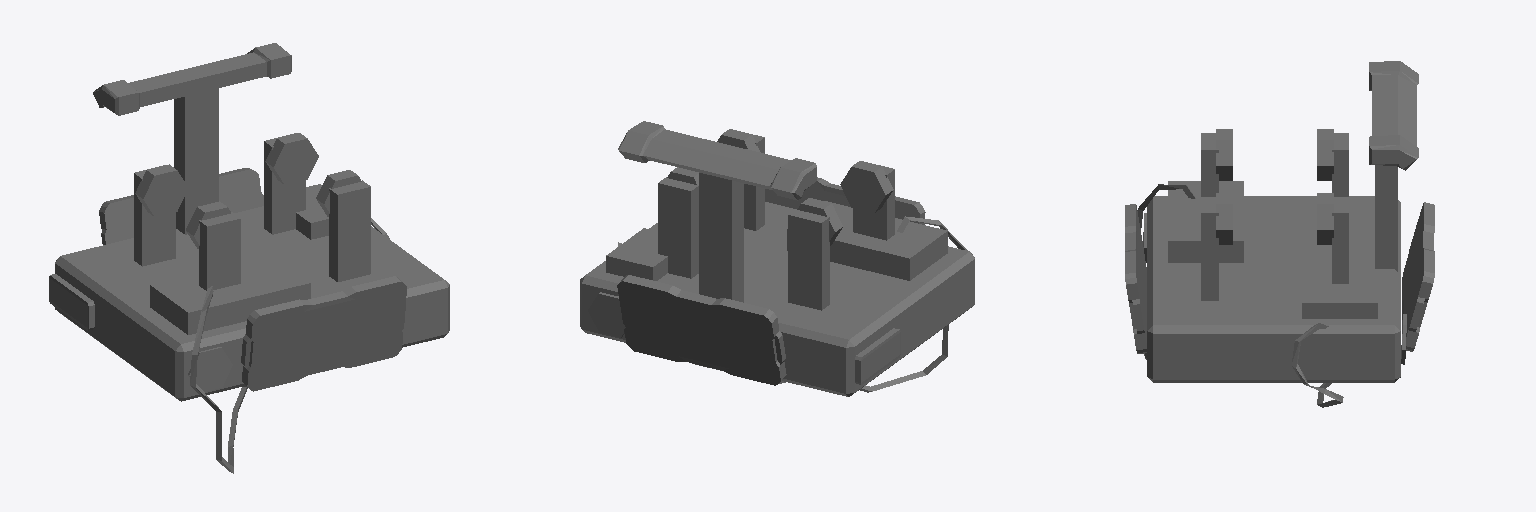
File: Sentry_Body.obj
The picture shows the model from 3 angles: view 1: azimuth 30°, elevation 25°; view 2: azimuth 150°, elevation 25°; view 3: azimuth 270°, elevation 25°; orthographic projection.
Parts seen in each view (by area): view 1: pCylinder13; view 2: pCylinder13; view 3: pCylinder13.
Boxes of the visible parts, x1,y1,x2,y2 form: pCylinder13: [49, 43, 449, 473]; pCylinder13: [580, 121, 974, 396]; pCylinder13: [1125, 61, 1434, 407].
Bounding box in the file's own units: 0.5464 × 0.5219 × 0.4894.